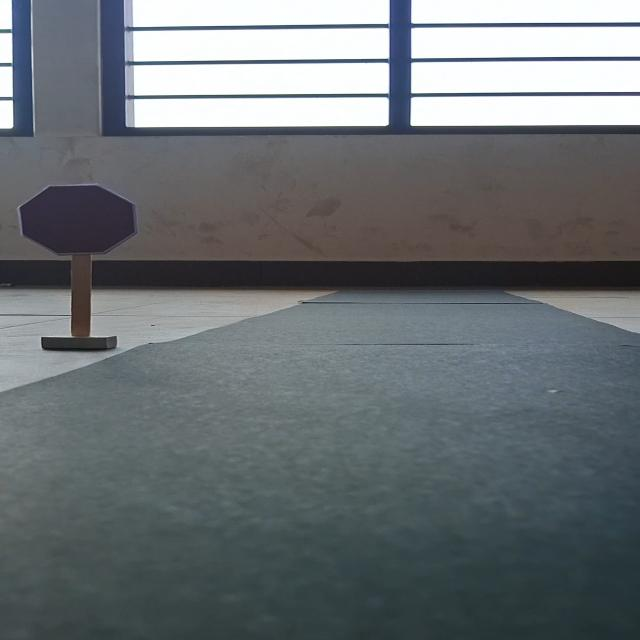Stop: (16, 184, 140, 257)
